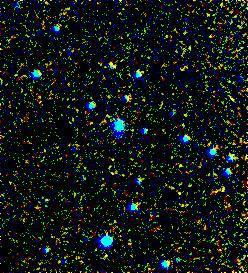star: (95, 51, 125, 81)
